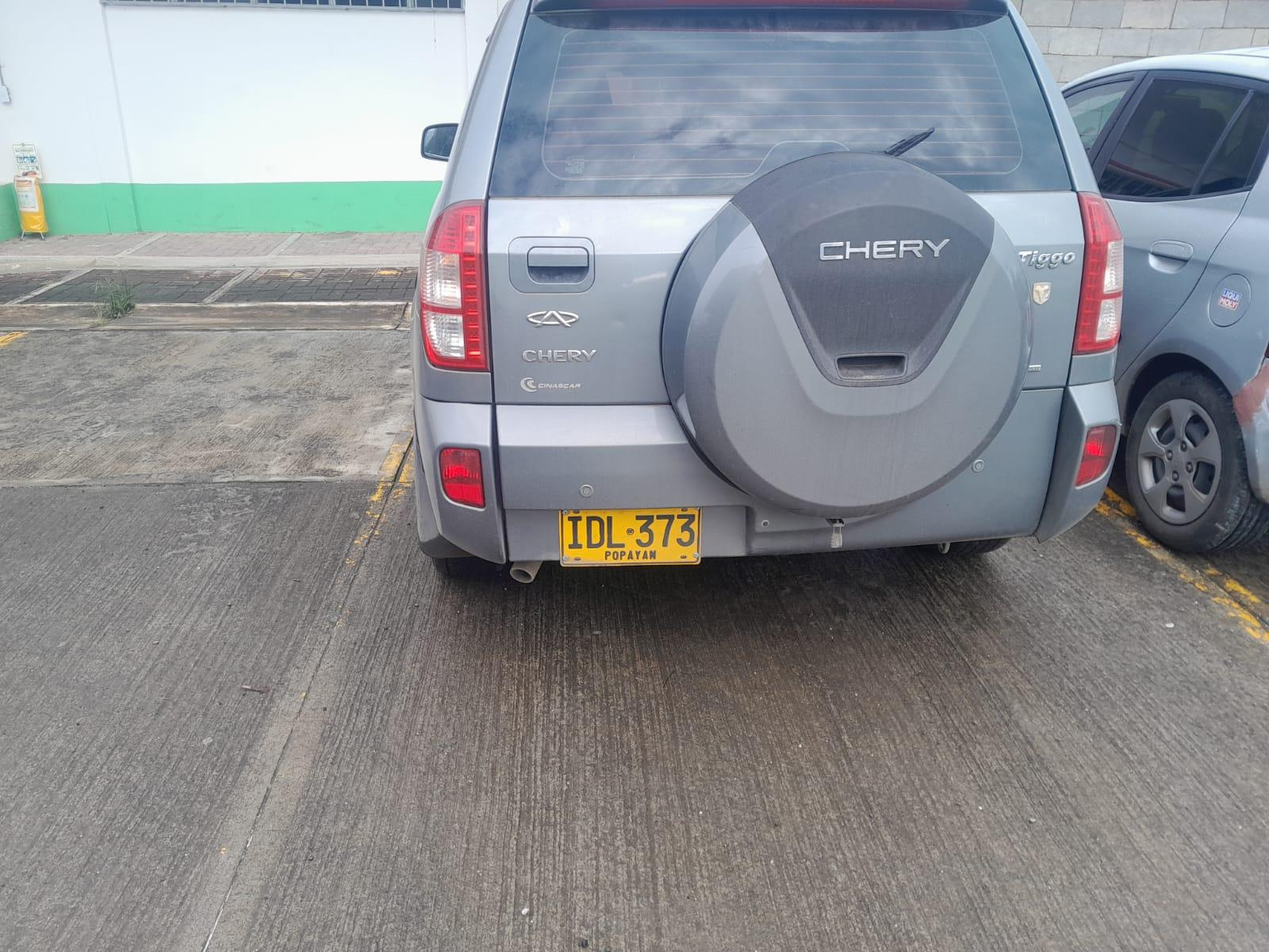placa: (560, 507, 702, 563)
